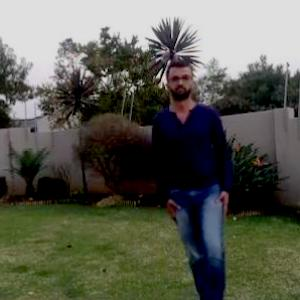follow: (151, 40, 238, 299)
